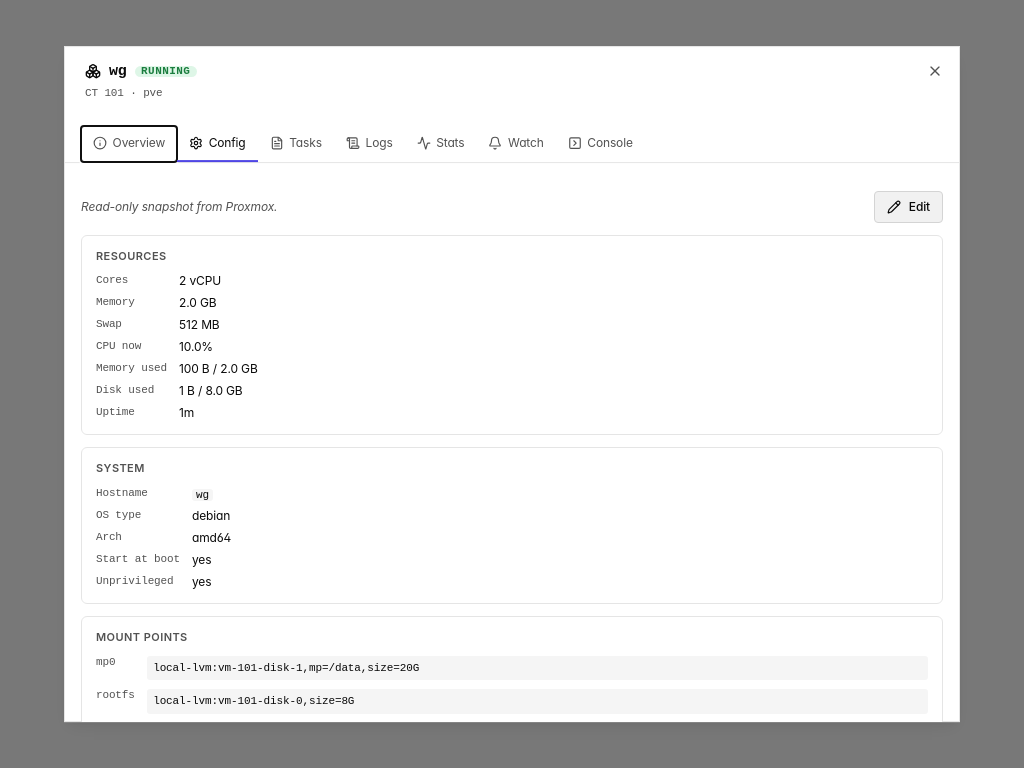
Test: LxcModal Config editor — V6.9 › names the exact key and the storage caveat when removing a mount
Click the button "Edit" at x=908, y=207, box x1=874 y1=191 x2=943 y2=223
(page scrolled)
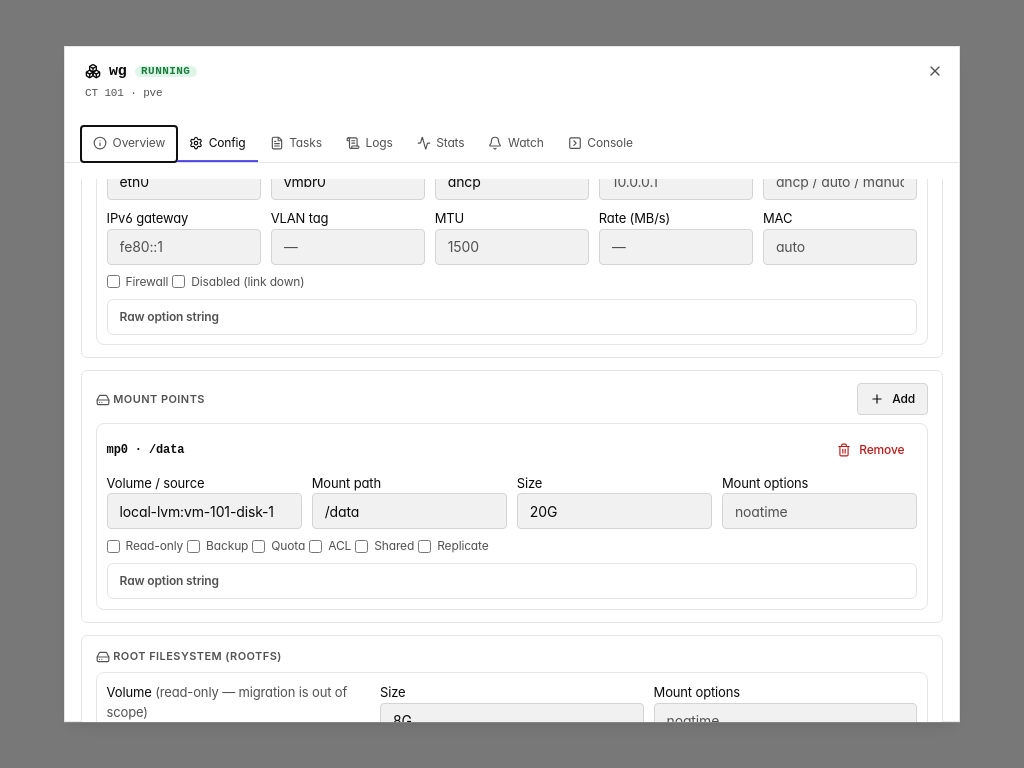
Click the button "Remove" at x=871, y=450, box x1=824 y1=434 x2=917 y2=466
(page scrolled)
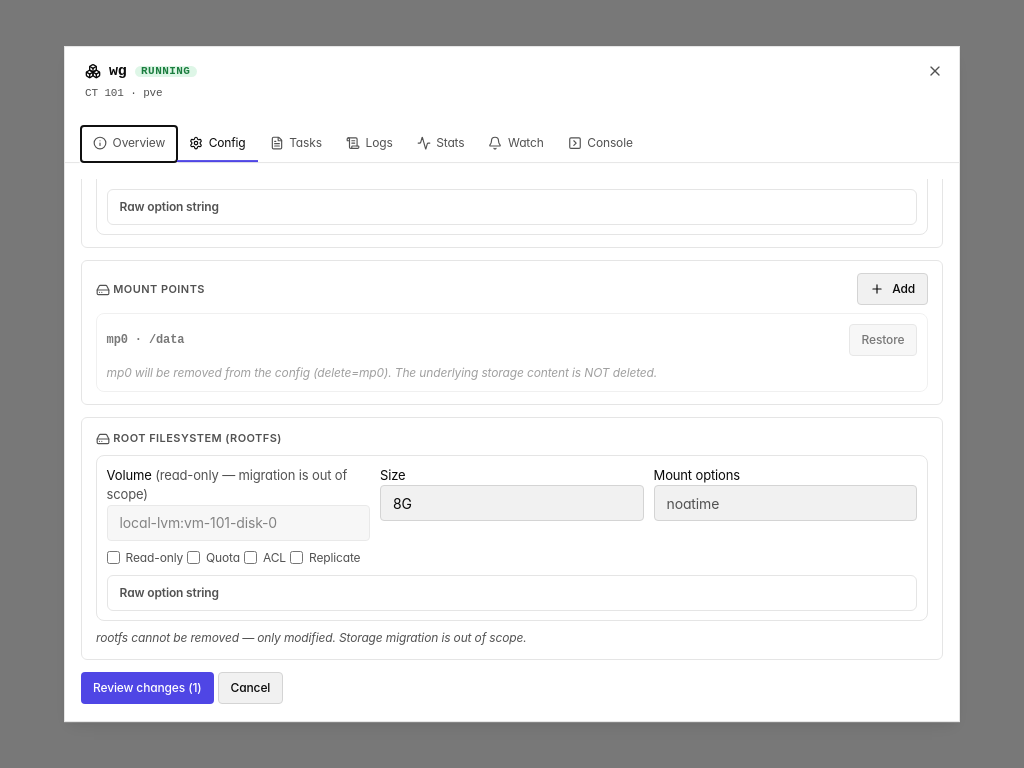
Click the button "Review changes (1)" at x=147, y=688, box x1=81 y1=672 x2=214 y2=704
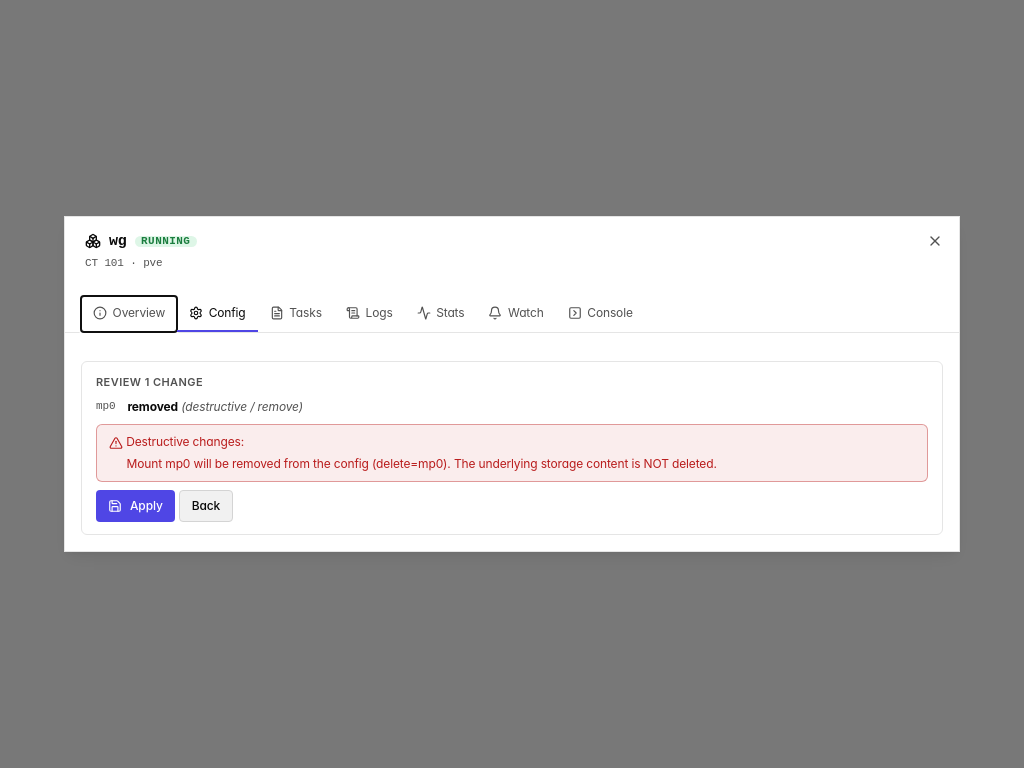
Check: the heading "Review 1 change" is shown, box x1=96 y1=374 x2=203 y2=388
Check: the text "Destructive changes:" is shown, box x1=109 y1=434 x2=244 y2=450
Check: the list item "storage content is NOT deleted" is shown, box x1=127 y1=456 x2=717 y2=471
